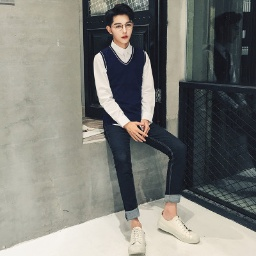face: (103, 4, 139, 45)
